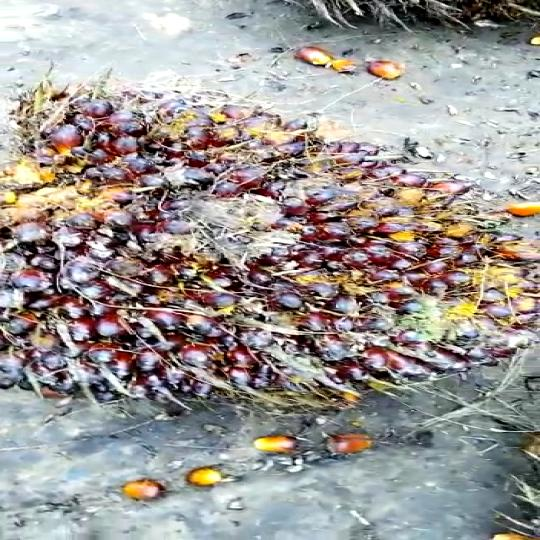kurang masak: (0, 68, 540, 442)
